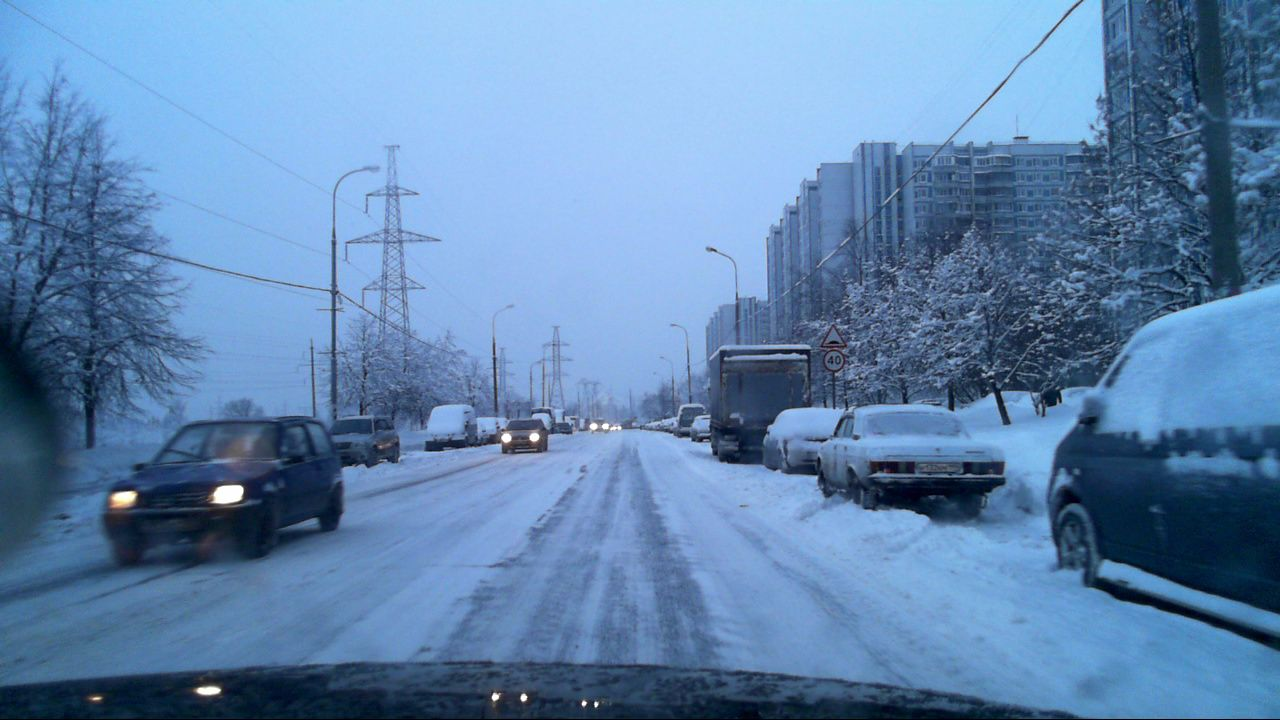speed_warning_40: (822, 347, 846, 371)
